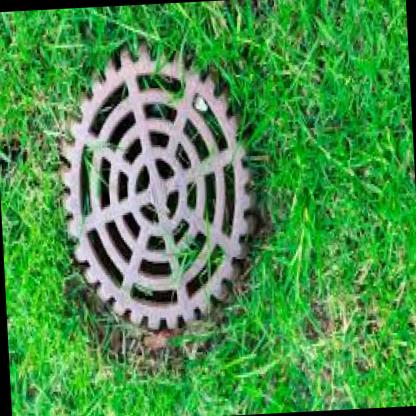manholes: (46, 33, 274, 358)
